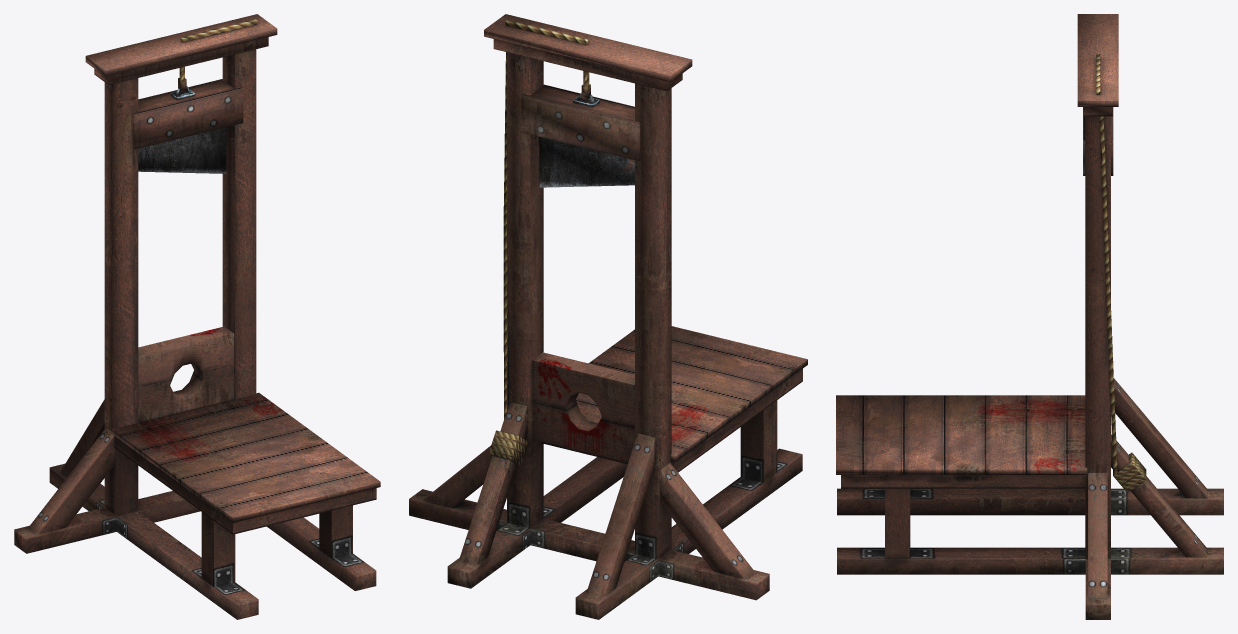
The model's file is Guillotine.fbx.
The picture shows the model from 3 angles, left to right: view 1: azimuth 30°, elevation 25°; view 2: azimuth 150°, elevation 25°; view 3: azimuth 270°, elevation 25°; orthographic projection. The views are drawn at different scales.
Parts seen in each view (by area): view 1: Guillotine; view 2: Guillotine; view 3: Guillotine.
Part boxes in pixels (bbox=[...]): Guillotine: bbox=[14, 14, 380, 619]; Guillotine: bbox=[409, 14, 807, 619]; Guillotine: bbox=[836, 14, 1223, 619].
Size of the model in its own units: 230 by 325 by 234.
